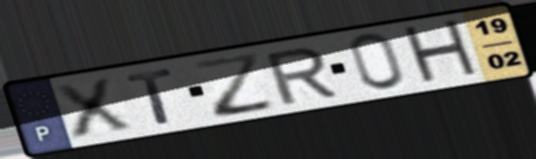0: (346, 31, 410, 94)
H: (398, 16, 485, 88)
R: (260, 44, 341, 107)
T: (122, 66, 177, 127)
X: (48, 75, 137, 142)
Z: (190, 49, 280, 120)
